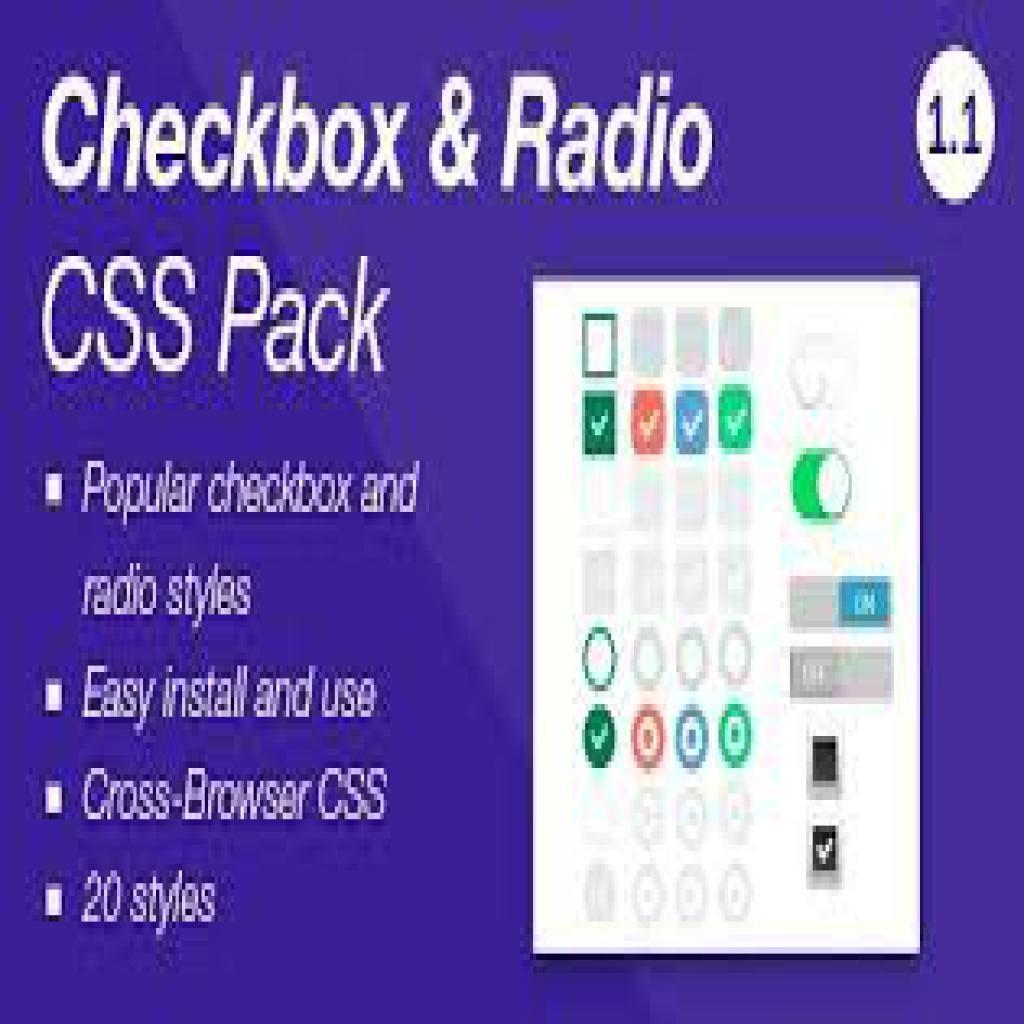checkbox: (719, 384, 756, 456), (632, 307, 668, 380), (632, 389, 668, 459), (674, 386, 710, 456), (584, 391, 619, 462), (719, 308, 756, 374), (676, 307, 710, 378), (584, 314, 619, 379), (813, 736, 840, 788), (814, 826, 840, 877)
radio: (674, 705, 709, 777), (631, 703, 668, 771), (719, 624, 756, 692), (717, 705, 755, 770), (630, 628, 668, 692), (582, 704, 618, 771), (675, 627, 712, 692), (674, 788, 711, 852), (632, 866, 669, 930), (583, 627, 619, 692), (631, 788, 666, 852), (718, 786, 755, 844), (719, 864, 753, 921), (675, 864, 707, 922)
switch: (791, 646, 894, 704), (791, 334, 864, 412), (791, 576, 893, 628), (793, 449, 855, 526)
